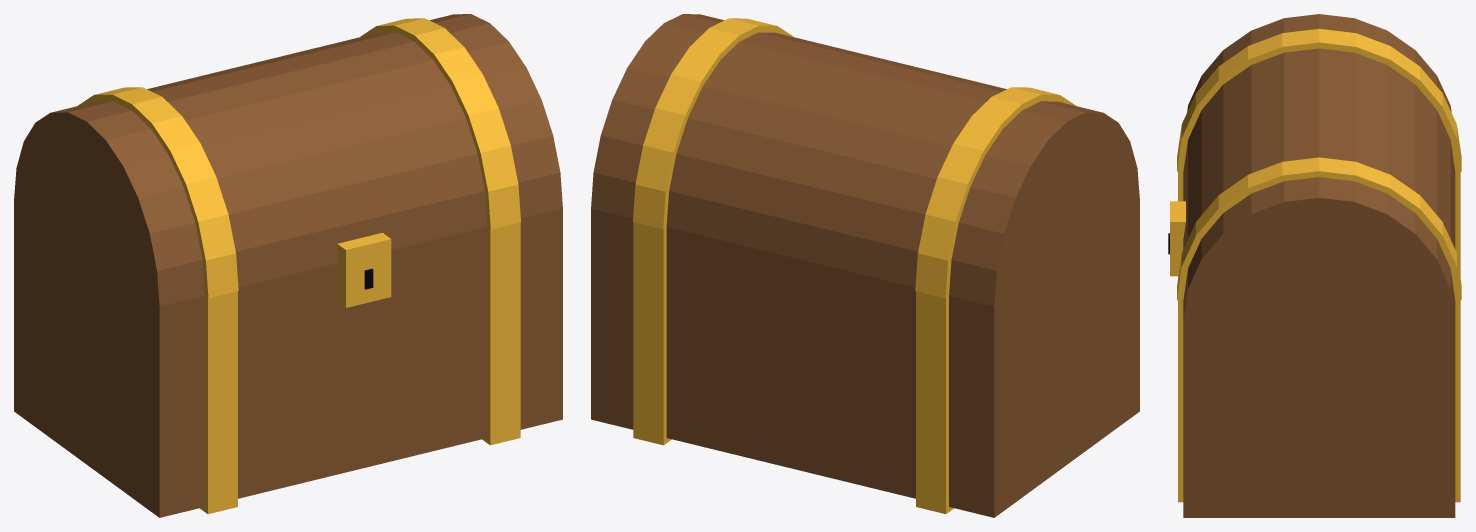
Rendered from chest.obj.
3 renders of one model, left to right at view 1: azimuth 30°, elevation 25°; view 2: azimuth 150°, elevation 25°; view 3: azimuth 270°, elevation 25°, orthographic. The views are drawn at different scales.
Parts seen in each view (by area): view 1: chest; view 2: chest; view 3: chest.
Boxes of the visible parts, <box> form: chest: <box>14,14,562,517</box>; chest: <box>591,14,1139,517</box>; chest: <box>1168,14,1461,517</box>.
Size of the model in its own units: 0.8 by 0.672 by 0.54.
